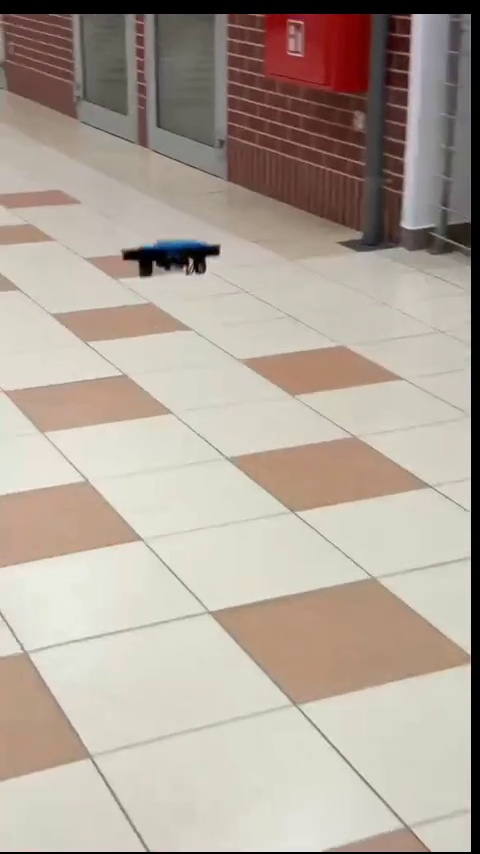drone: (122, 243, 225, 285)
